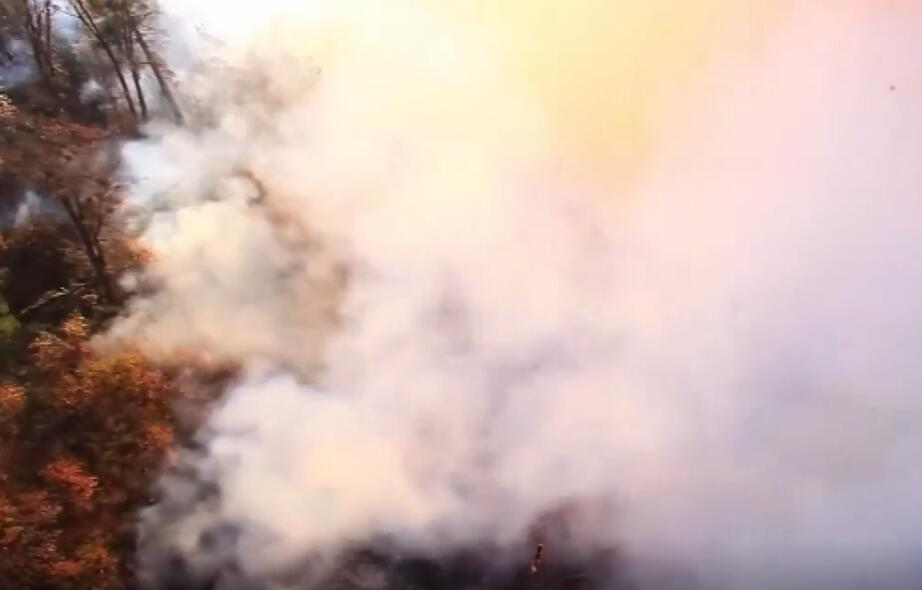yanwu: (119, 1, 922, 583)
